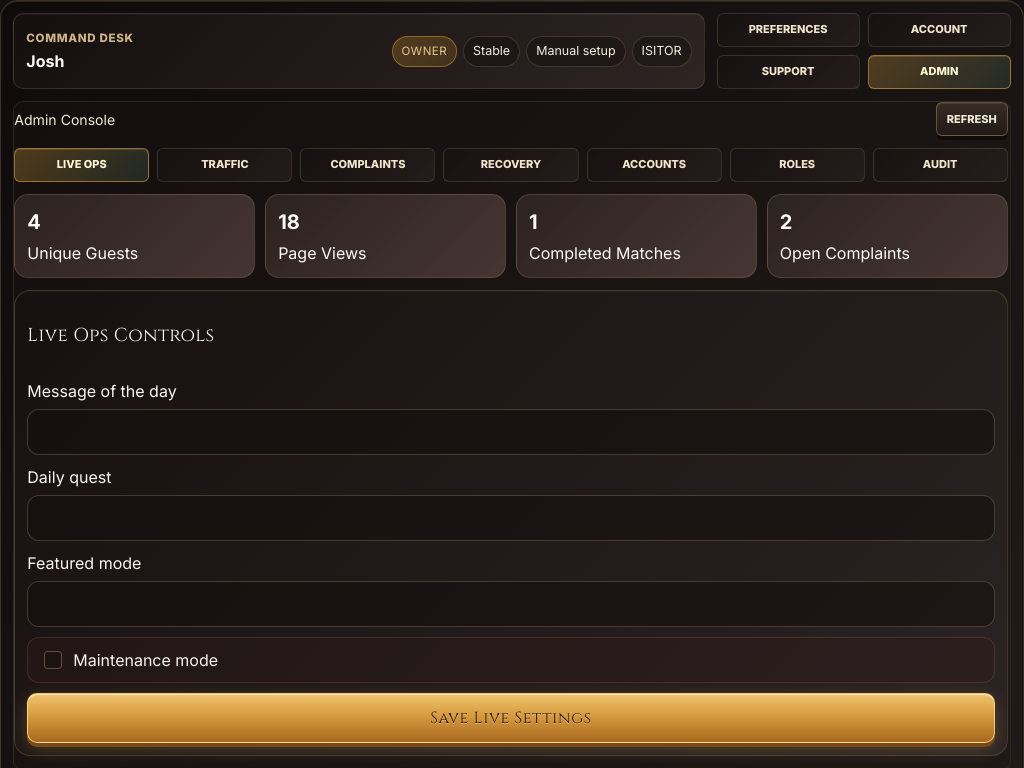
it: SettingsScreen sections › excludes account recovery requests from the general complaints tab
The image size is (1024, 768).
Step 1. Click the tab "Complaints" → (368, 165), box [300,148,436,182]
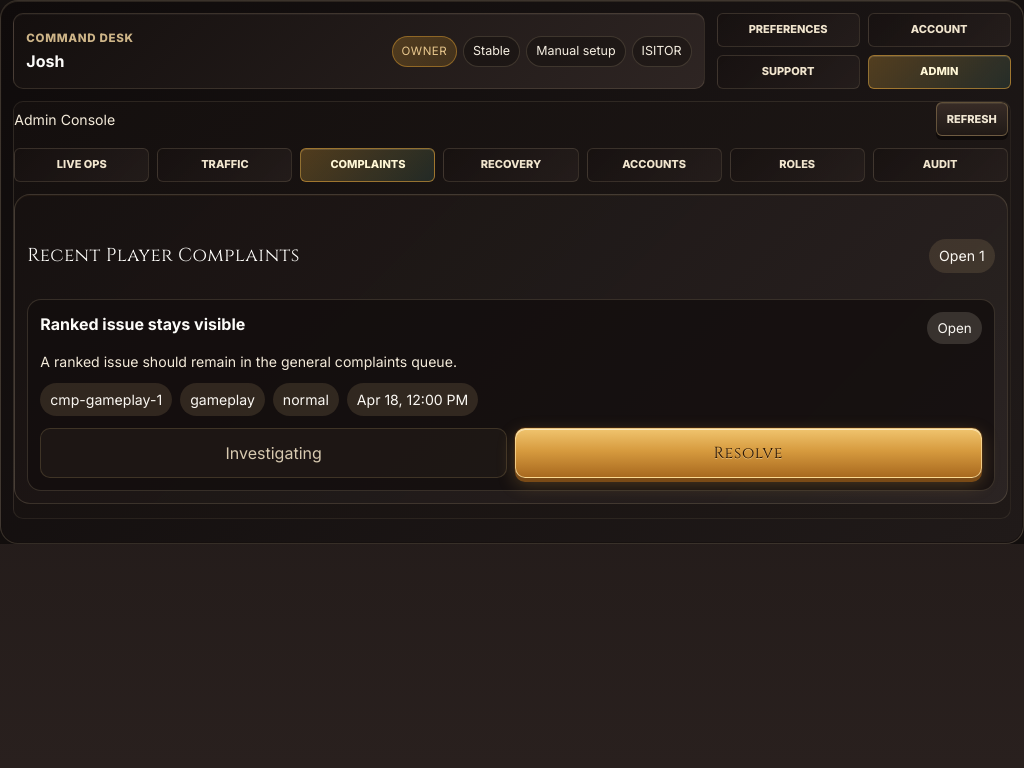
Check: the text "Ranked issue stays visible" is shown, box [40,312,245,336]
